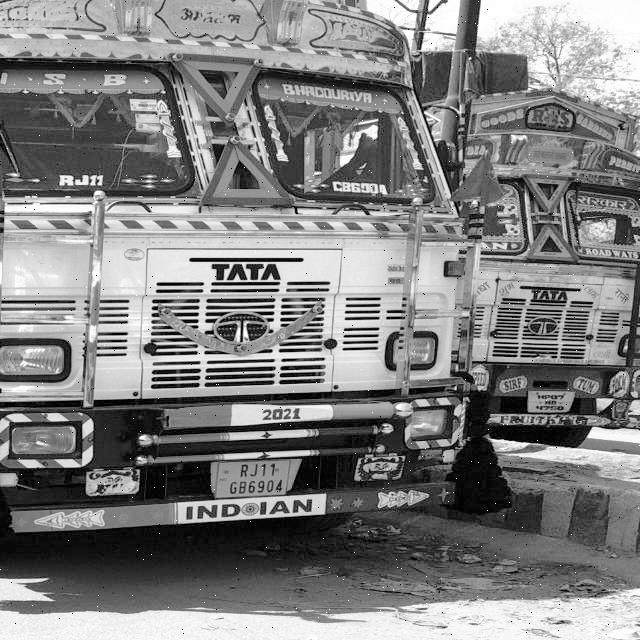HCV: (3, 28, 471, 579), (477, 75, 639, 478)
